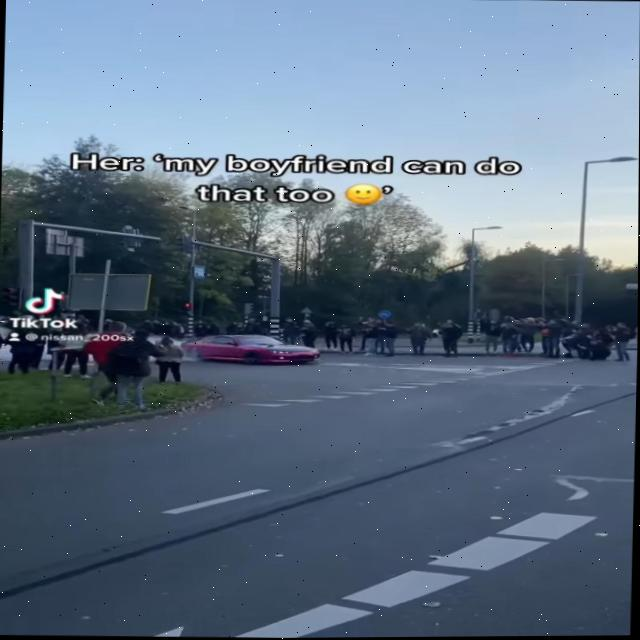vehicle: (187, 328, 324, 371)
